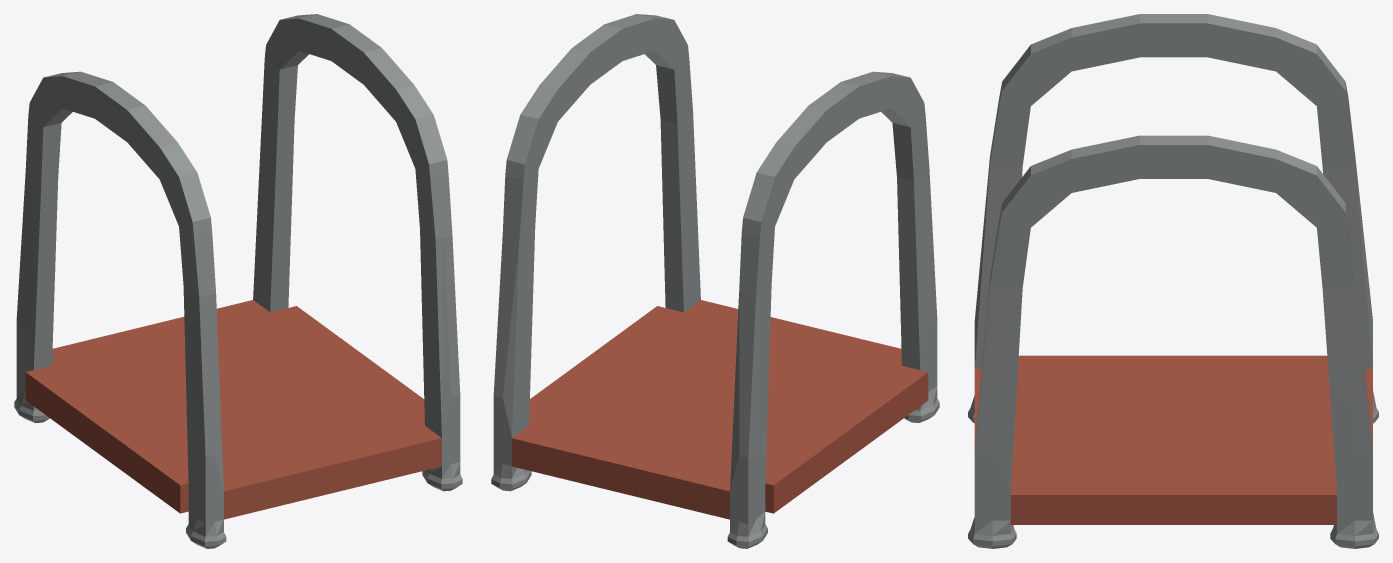
The model's file is GasCanShelf.fbx.
3 views of the same model, side by side, from view 1: azimuth 30°, elevation 25°; view 2: azimuth 150°, elevation 25°; view 3: azimuth 270°, elevation 25° (orthographic). The views are drawn at different scales.
Parts seen in each view (by area): view 1: pCube3; view 2: pCube3; view 3: pCube3.
Part boxes in pixels (x1,y1,x2,y2): pCube3: [14, 14, 462, 548]; pCube3: [491, 14, 939, 548]; pCube3: [968, 14, 1378, 548].
Size of the model in its own units: 42.3 by 57.18 by 52.7.
